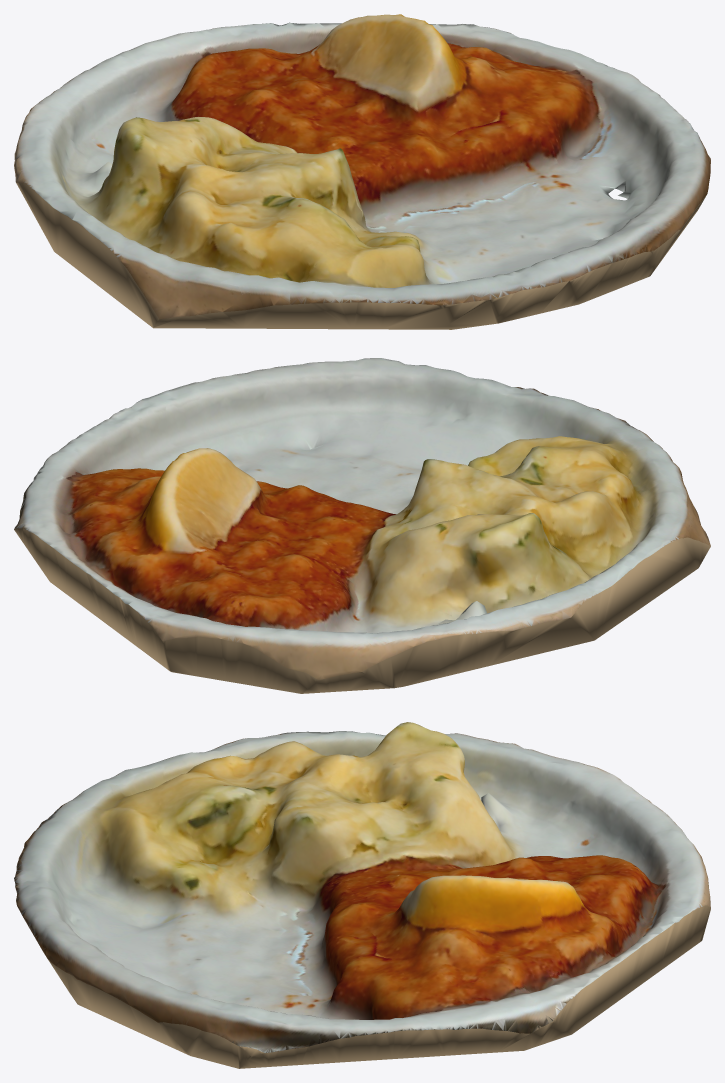
File: schnitzeltest.glb
3 renders of one model, top to bottom at view 1: azimuth 30°, elevation 25°; view 2: azimuth 150°, elevation 25°; view 3: azimuth 270°, elevation 25°, orthographic. The views are drawn at different scales.
Visible parts, largest first — view 1: mesh; view 2: mesh; view 3: mesh.
Boxes of the visible parts, box(x1,y1,x2,y2) form: mesh: box(14, 14, 710, 329); mesh: box(14, 358, 710, 693); mesh: box(14, 722, 710, 1068).
Size of the model in its own units: 1.46 by 0.2749 by 1.5.
Materials: 1 (1 with a texture image).
